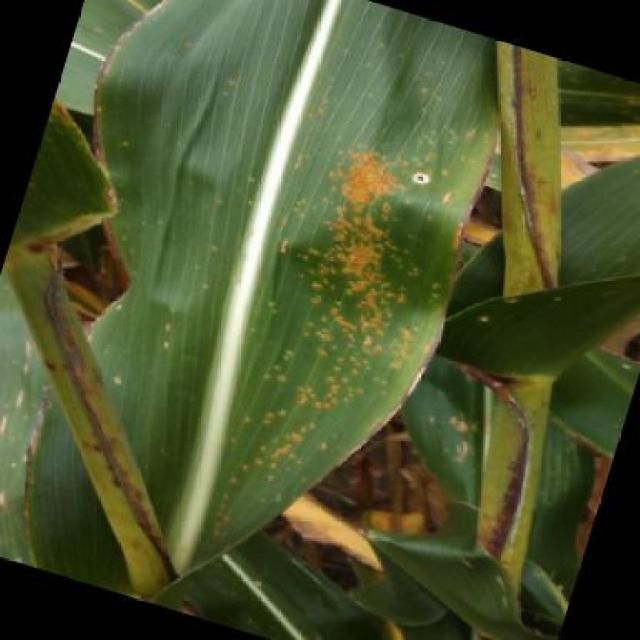Corn_Rust: (122, 37, 465, 552)
